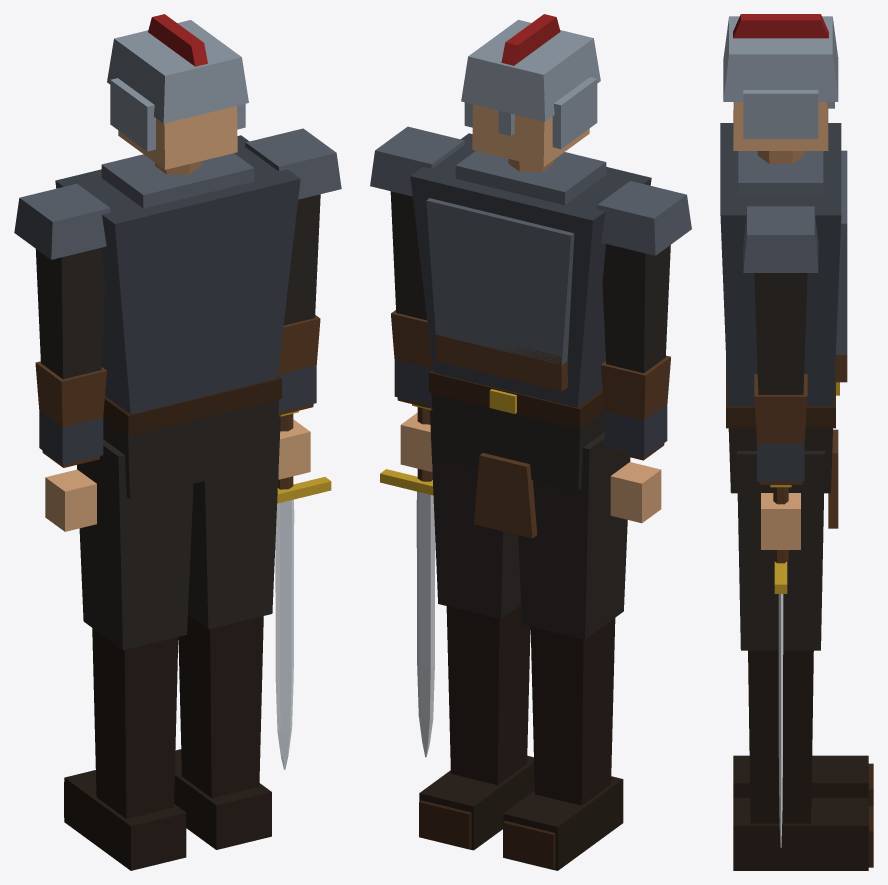
Rendered from humanoid.glb.
The picture shows the model from 3 angles, left to right: view 1: azimuth 30°, elevation 25°; view 2: azimuth 150°, elevation 25°; view 3: azimuth 270°, elevation 25°; orthographic projection. The views are drawn at different scales.
Visible parts, largest first — view 1: torso, shin_l, shin_r, thigh_l, head, pelvis, upper_arm_l, thigh_r, lower_arm_l, upper_arm_r, sword, lower_arm_r; view 2: torso, shin_l, shin_r, pelvis, head, thigh_l, upper_arm_l, thigh_r, lower_arm_l, upper_arm_r, sword, lower_arm_r; view 3: torso, shin_r, head, thigh_r, upper_arm_r, lower_arm_r, pelvis, shin_l, sword.
Part boxes in pixels (x1,y1,x2,y2): torso: [55, 135, 300, 414]; shin_l: [64, 628, 186, 870]; shin_r: [174, 615, 271, 849]; thigh_l: [77, 439, 193, 650]; head: [107, 14, 248, 174]; pelvis: [103, 376, 281, 498]; upper_arm_l: [14, 183, 110, 379]; thigh_r: [188, 415, 280, 629]; lower_arm_l: [35, 361, 106, 531]; upper_arm_r: [245, 128, 341, 325]; sword: [275, 410, 331, 769]; lower_arm_r: [277, 315, 320, 479]; torso: [410, 133, 651, 407]; shin_l: [503, 618, 623, 870]; shin_r: [419, 605, 534, 850]; pelvis: [428, 369, 604, 538]; head: [461, 14, 600, 171]; thigh_l: [518, 432, 630, 639]; upper_arm_l: [597, 181, 691, 373]; thigh_r: [430, 409, 521, 619]; lower_arm_l: [601, 355, 670, 523]; upper_arm_r: [370, 126, 464, 320]; sword: [380, 404, 435, 757]; lower_arm_r: [391, 310, 432, 471]; torso: [720, 123, 847, 406]; shin_r: [733, 650, 873, 870]; head: [723, 14, 838, 163]; thigh_r: [737, 451, 824, 650]; upper_arm_r: [743, 206, 818, 394]; lower_arm_r: [754, 374, 807, 549]; pelvis: [726, 359, 839, 528]; shin_l: [733, 755, 873, 805]; sword: [770, 485, 791, 847].
Bounding box in the file's own units: 0.692 × 1.81 × 0.3057.
Materials: 1 (1 with a texture image).
